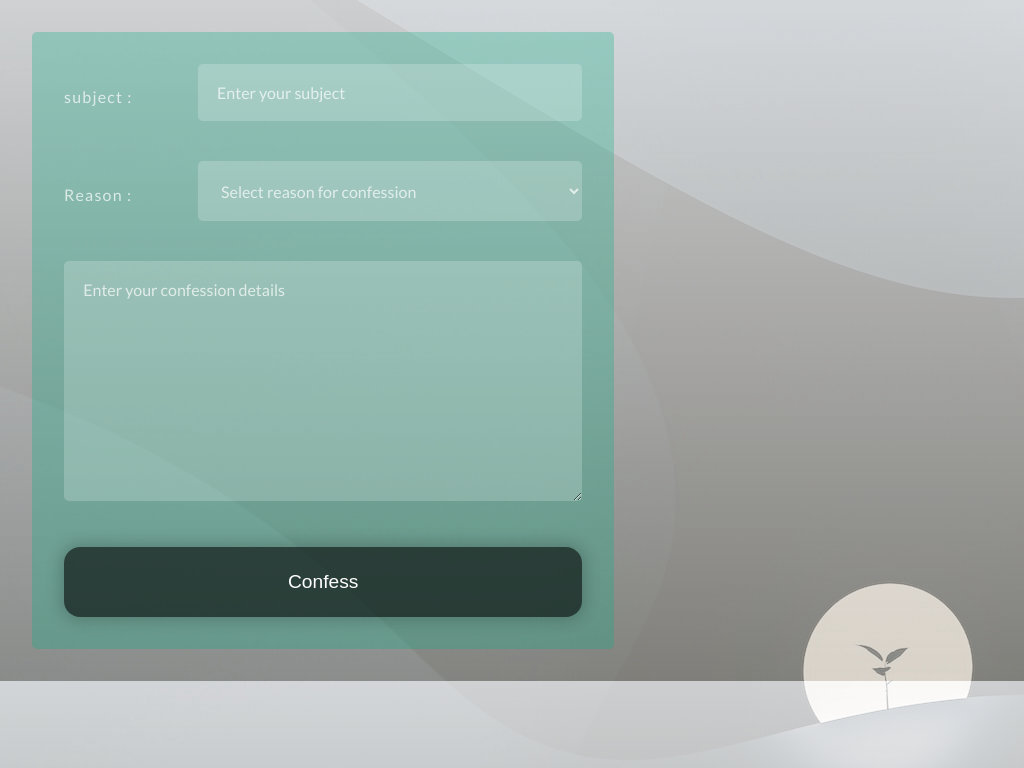
Test: displays error message for typing more than 30 characters in the subject field
user types in input field
In the field: (390, 93) [198,64,582,121], type "I behaved rudely to a citzen in Fakelandia. I will not do it next time."
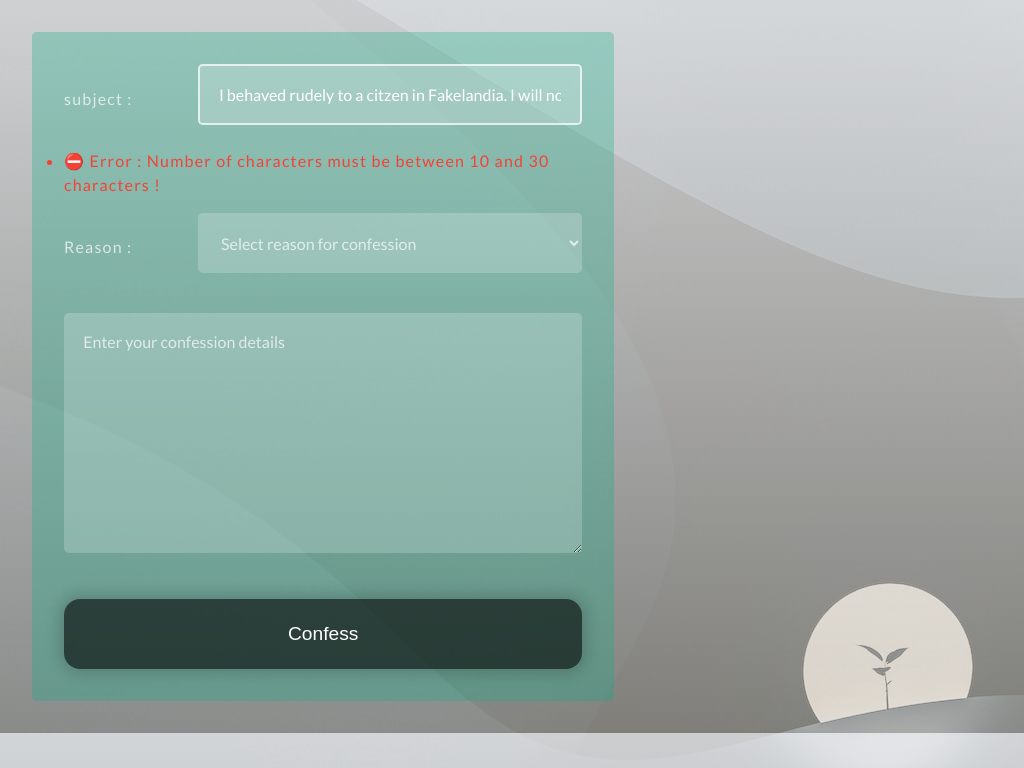
expect the list item reads "⛔️ Error : Number of characters must be between 10 and 30 characters !": met, box [64,151,549,194]
